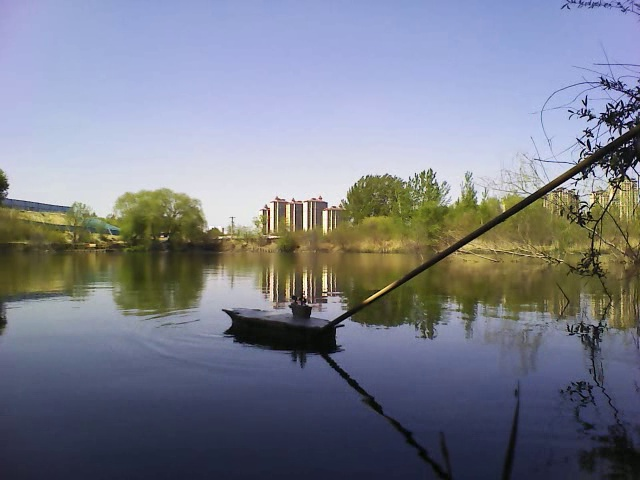aircraft_carrier: (224, 295, 342, 344)
